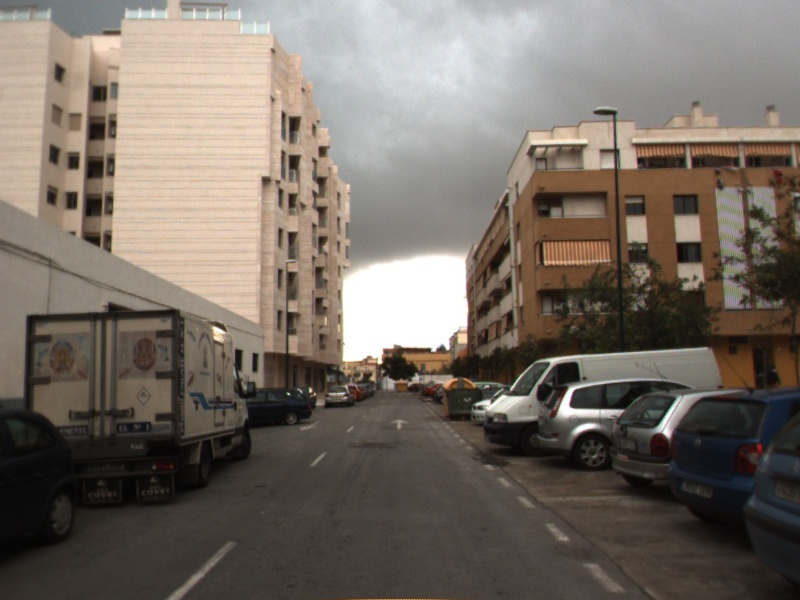STRAIGHT: (388, 417, 411, 431)
